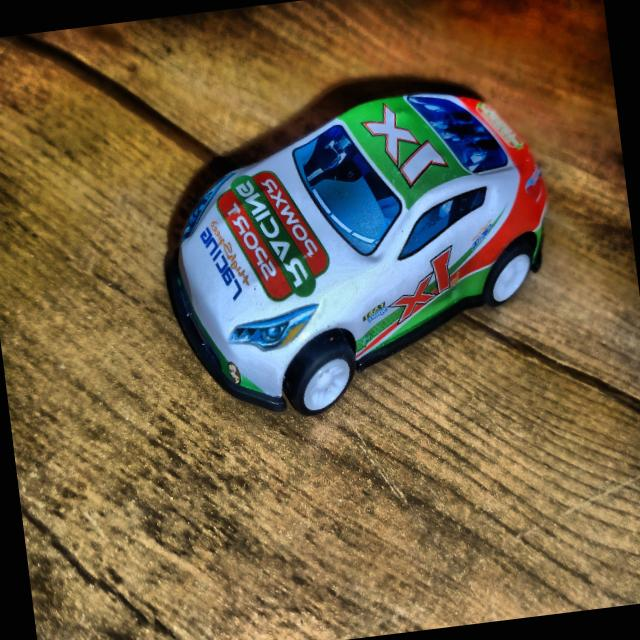Car: (152, 78, 569, 430)
